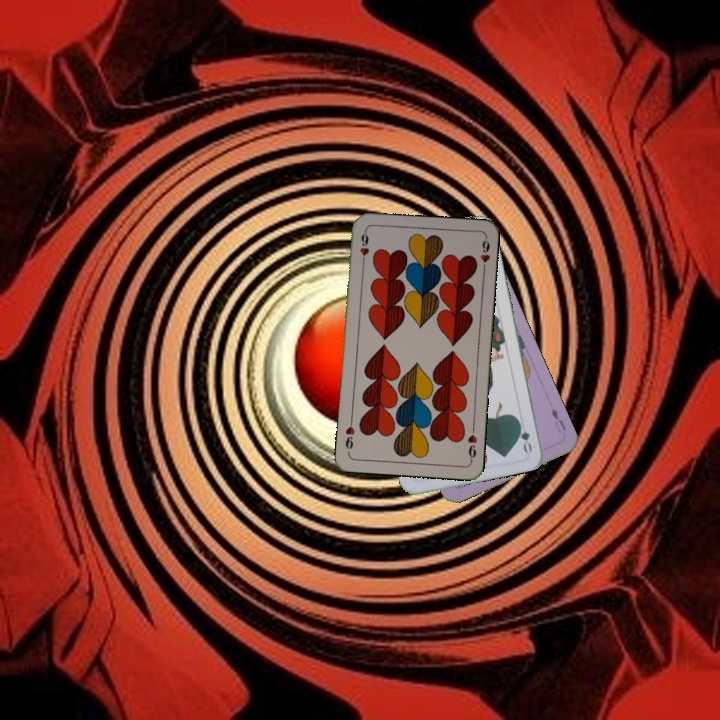EU: (547, 404, 569, 435)
GO: (513, 415, 535, 455)
H9: (464, 423, 480, 464), (356, 227, 372, 267)
